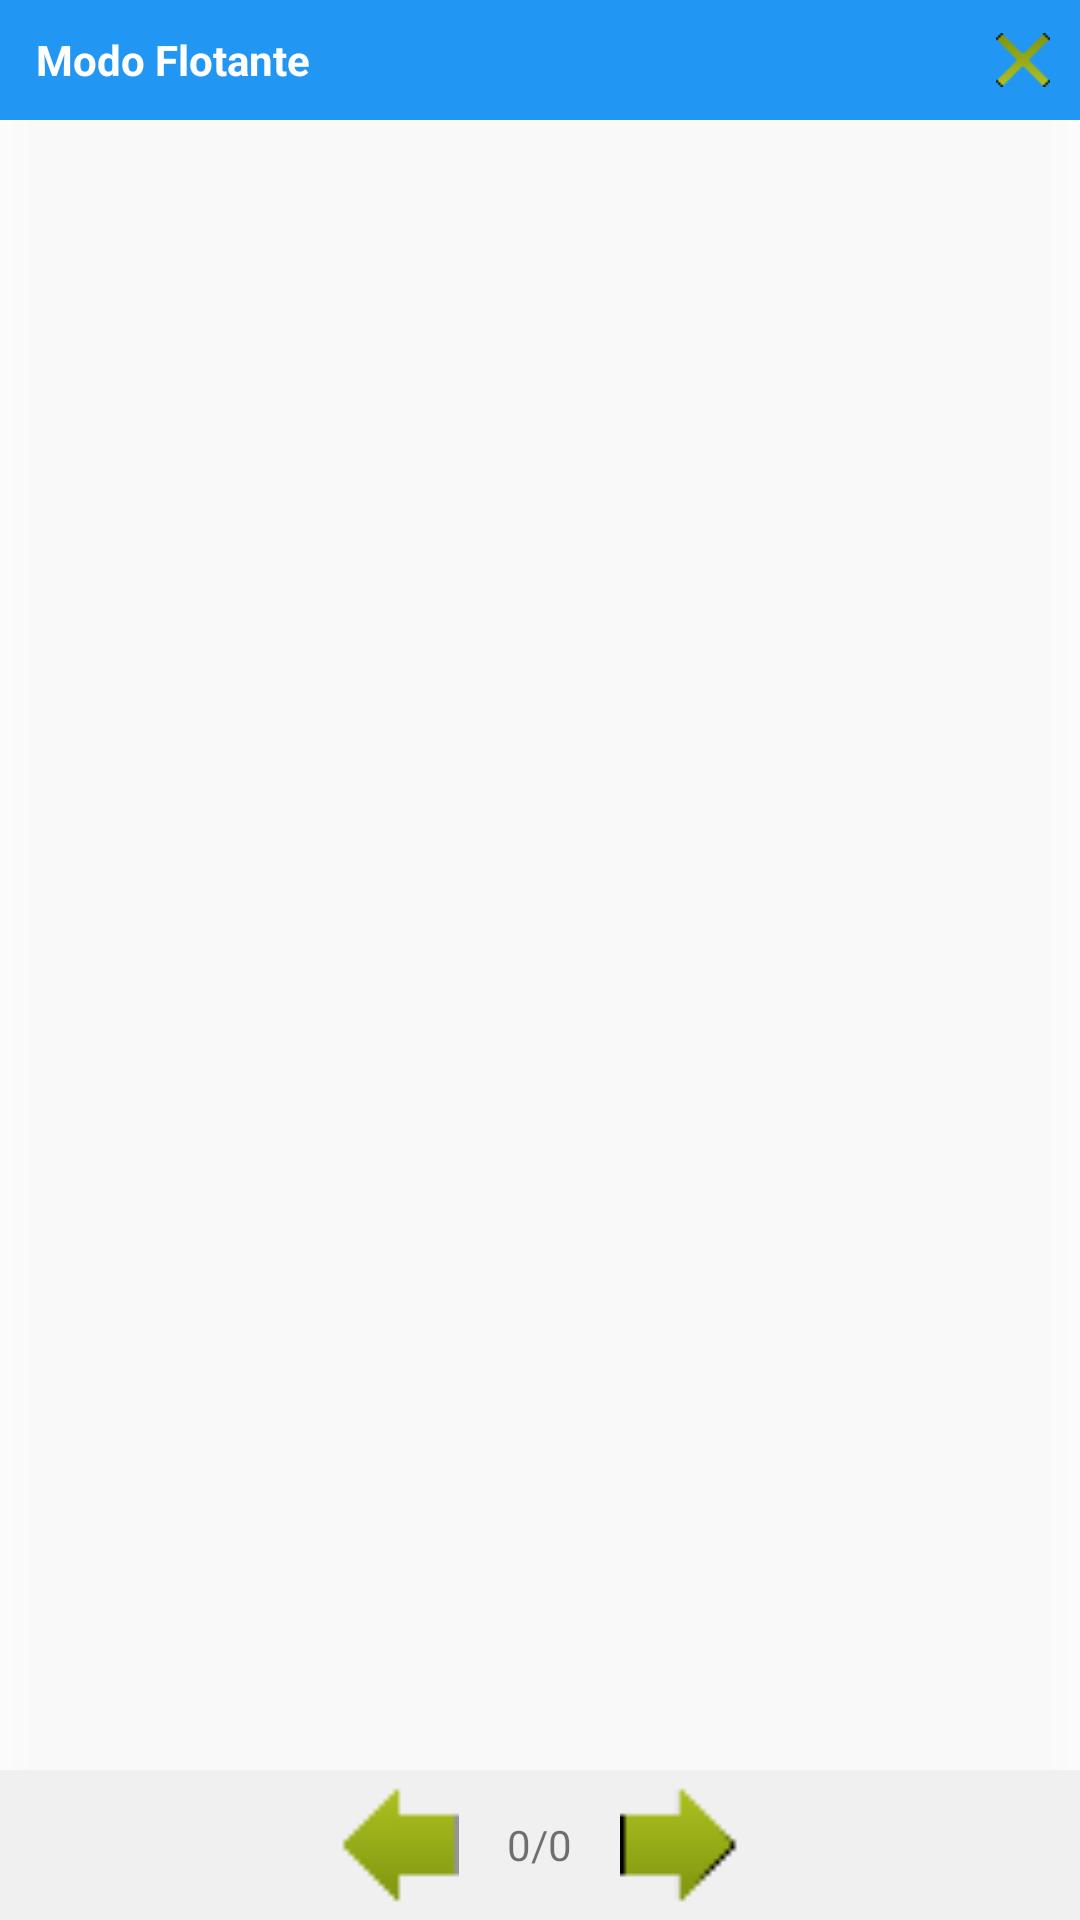

Icons on this 1080x1920 Android screen, each with its box as (x1, y1, x2, y2):
close: (996, 33, 1050, 87)
next: (620, 1788, 737, 1902)
prev: (342, 1788, 459, 1902)
